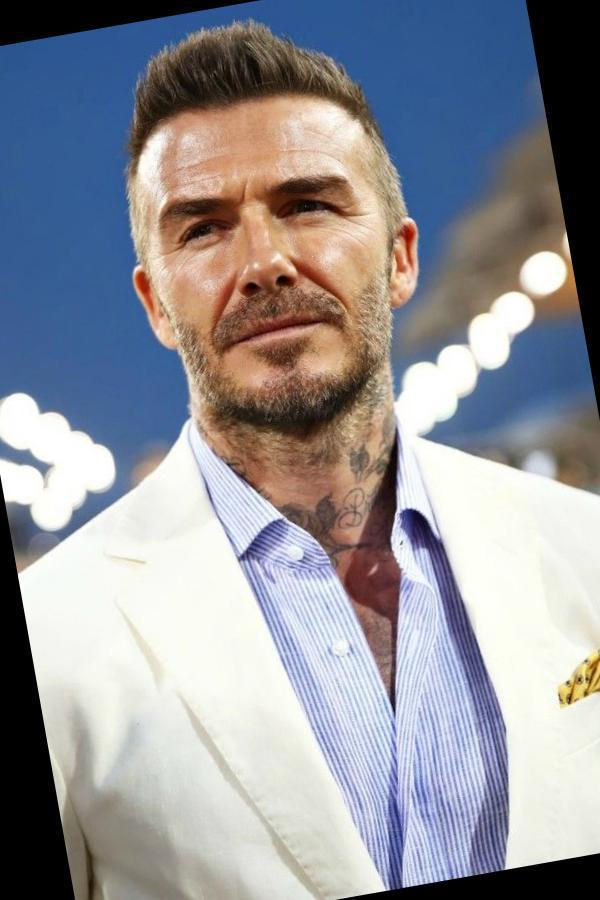Sober: (153, 124, 384, 414)
